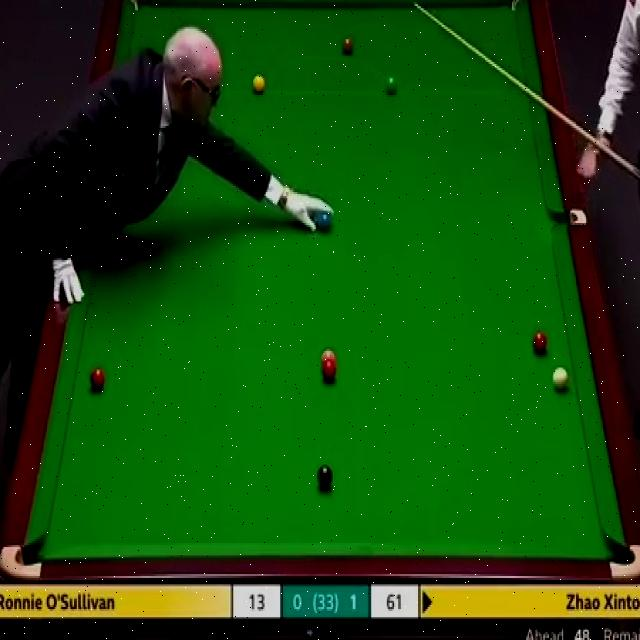black-ball: (317, 464, 333, 489)
blue-ball: (318, 207, 333, 232)
brown-ball: (341, 36, 354, 54)
green-ball: (383, 73, 398, 95)
pink-ball: (320, 348, 338, 366)
red-ball: (532, 330, 548, 355), (90, 367, 105, 390), (320, 364, 336, 381)
white-ball: (552, 367, 570, 392)
yellow-ball: (252, 75, 266, 95)
